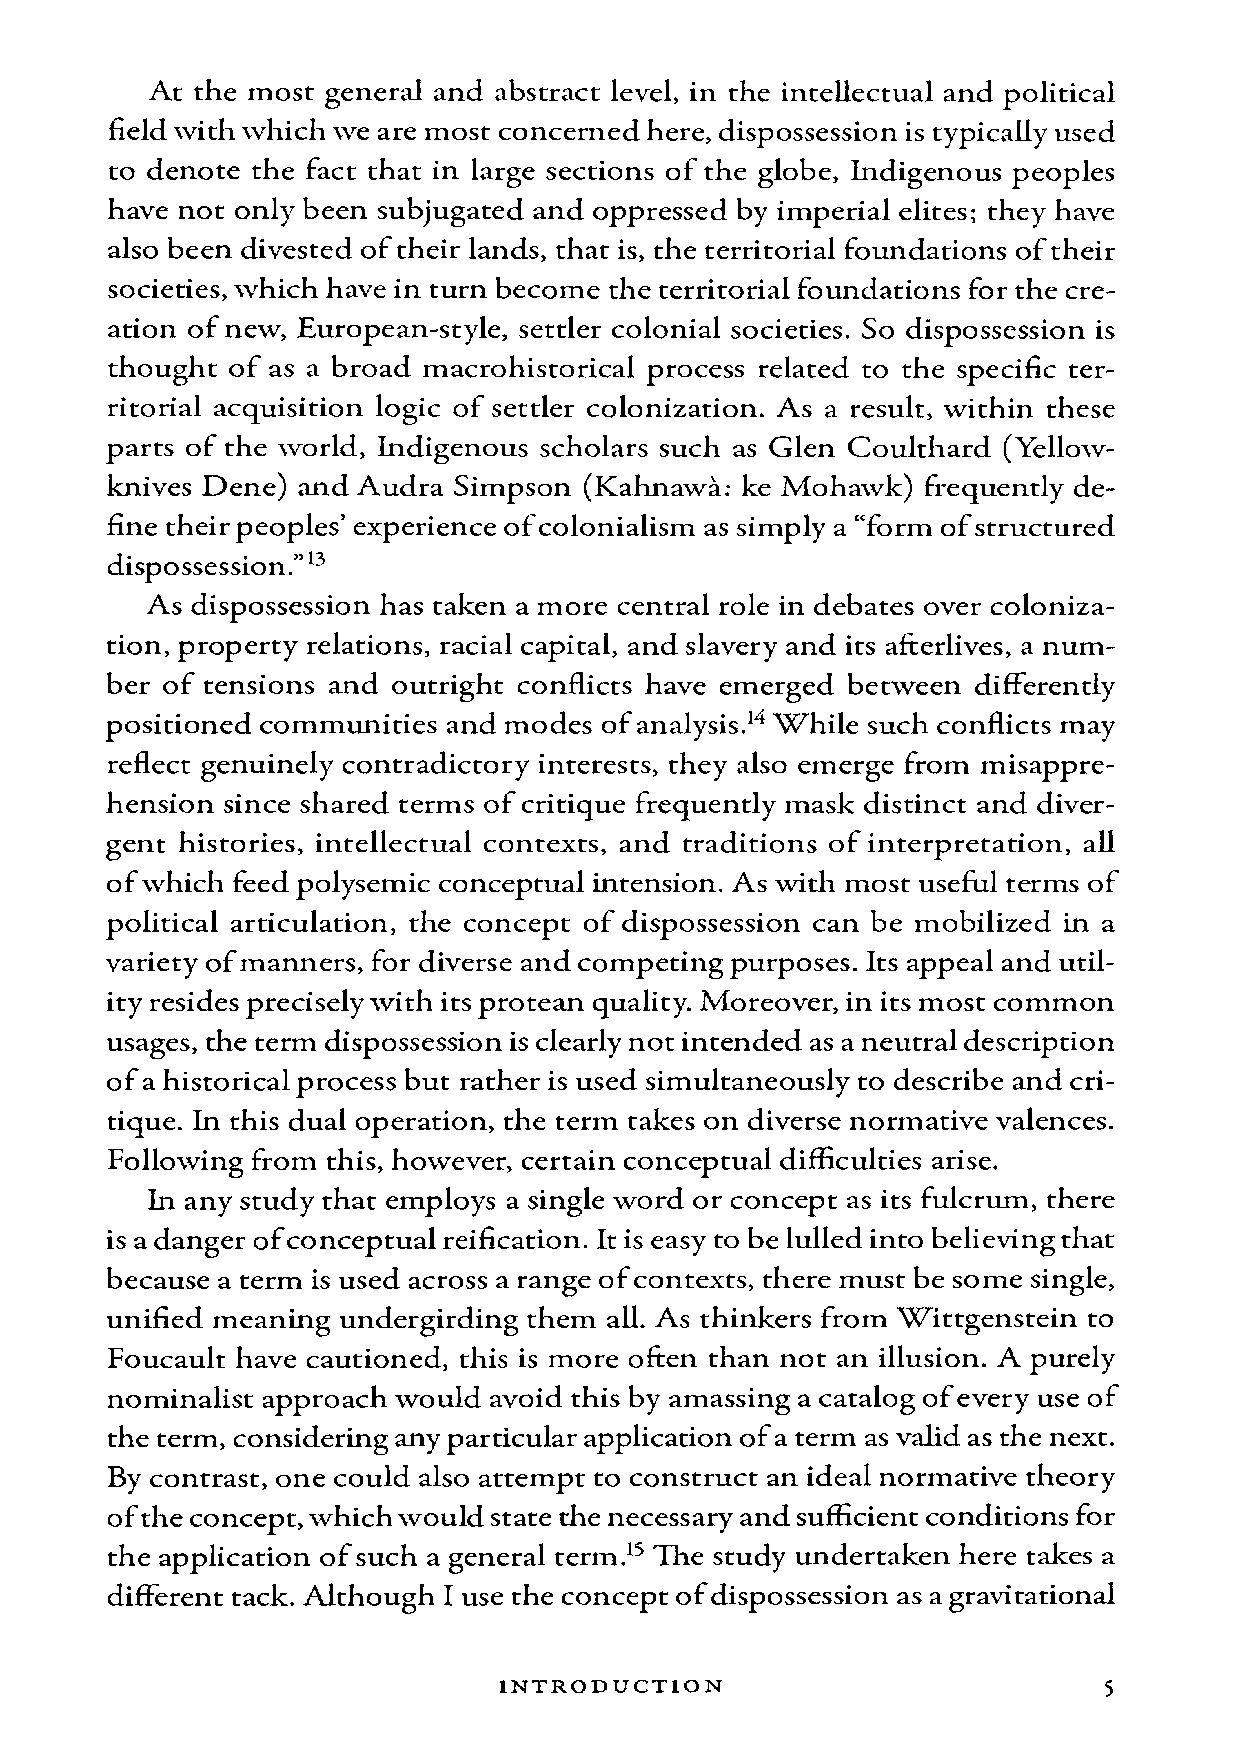content: (98, 76, 1118, 1617)
content_chapter: (488, 1673, 727, 1698)
content_pagenumber: (1091, 1664, 1125, 1704)
